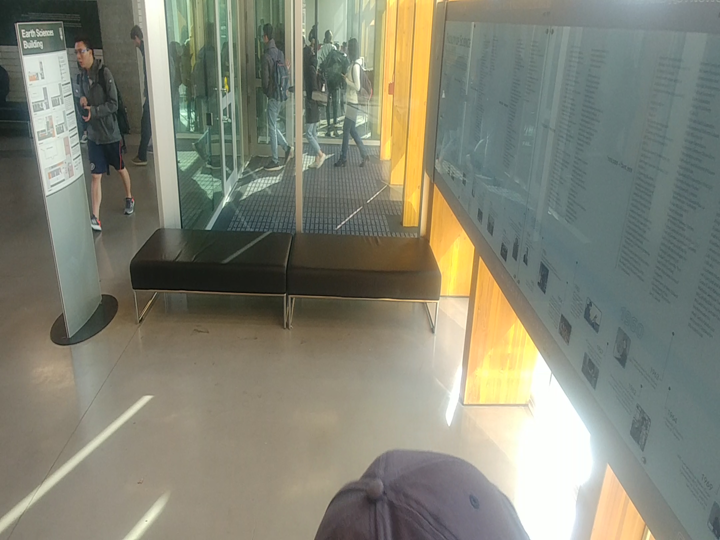face: (71, 33, 98, 70), (122, 20, 149, 51), (341, 36, 365, 68), (255, 20, 280, 45)
human: (68, 32, 141, 234), (254, 19, 295, 172), (334, 34, 374, 171), (301, 38, 330, 173)
